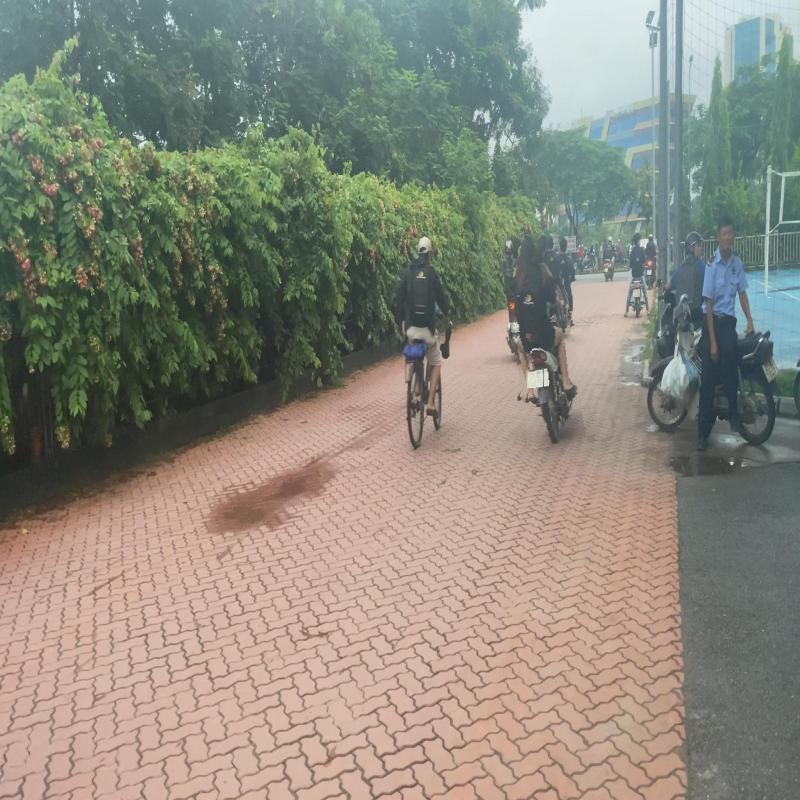licenseplate: (526, 369, 544, 388)
motorcyclist: (506, 232, 579, 449)
nohelmet: (532, 234, 550, 264)
